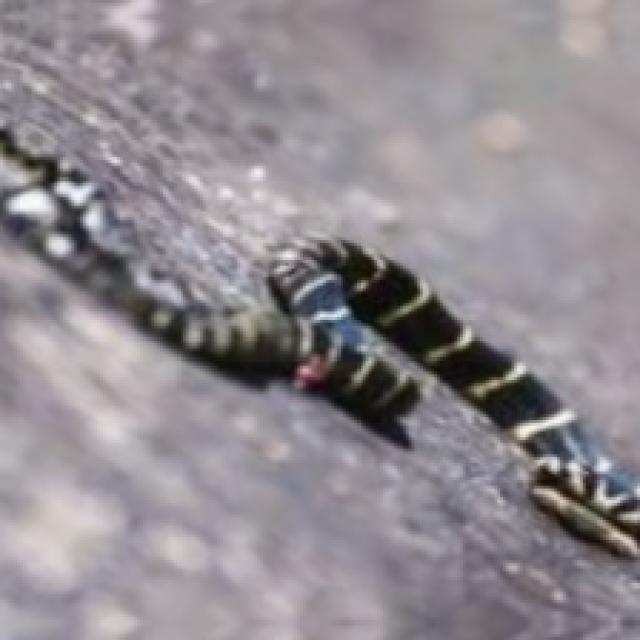king cobra: (0, 0, 637, 469), (3, 246, 543, 594)
